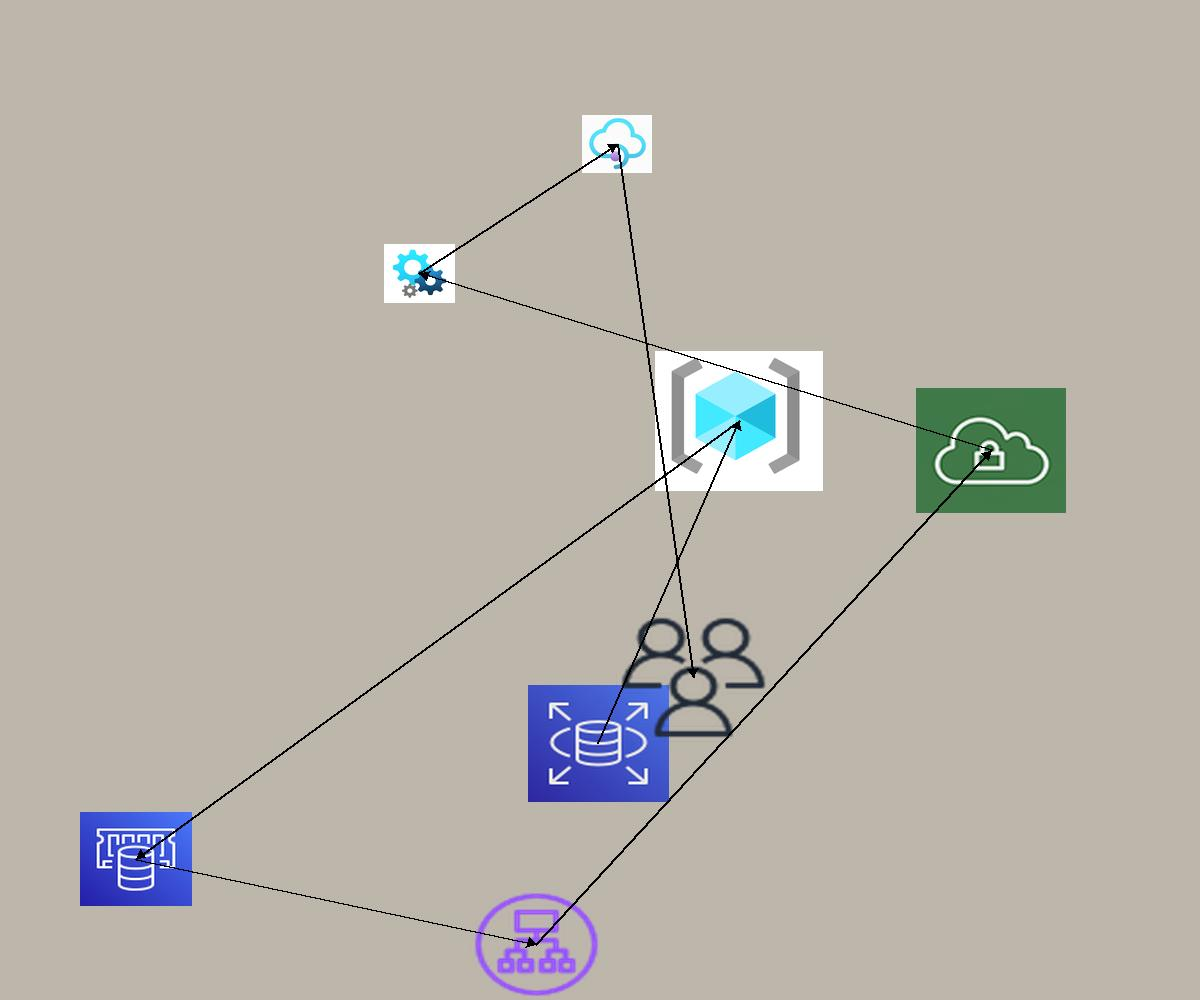AWS-ElastiCache: (80, 812, 192, 906)
AWS-Private_vpc: (916, 388, 1066, 513)
AWS-RDS: (528, 685, 669, 802)
AWS-Res_Elastic-Load-Balancing_Application-Load-Balancer: (470, 889, 603, 1000)
AWS-Res_Users: (616, 613, 771, 742)
Azure_api: (384, 244, 455, 303)
Azure_api_gateway: (582, 115, 652, 173)
Azure_resource_group: (655, 351, 823, 491)
